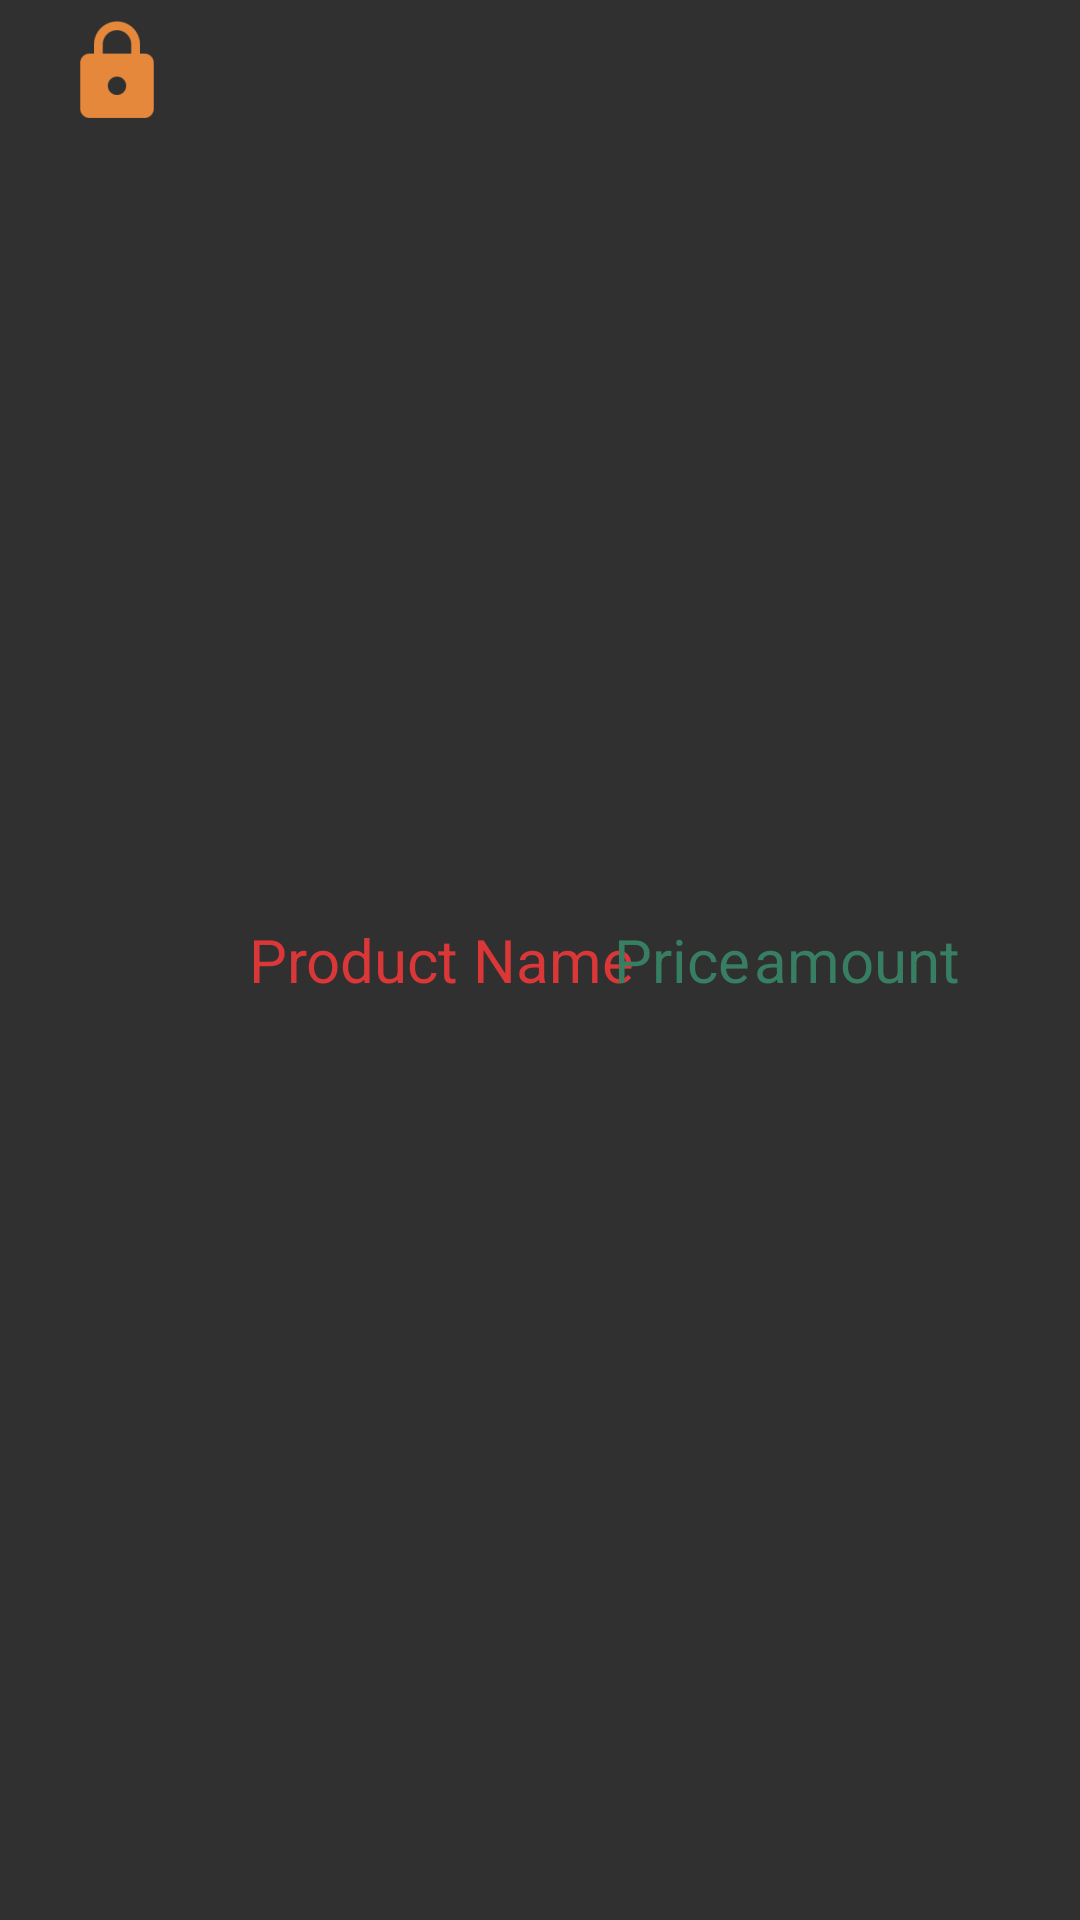

Where to tap for icons on this 1080*1920 app screen, as [x,y]:
lock: [117,69]
